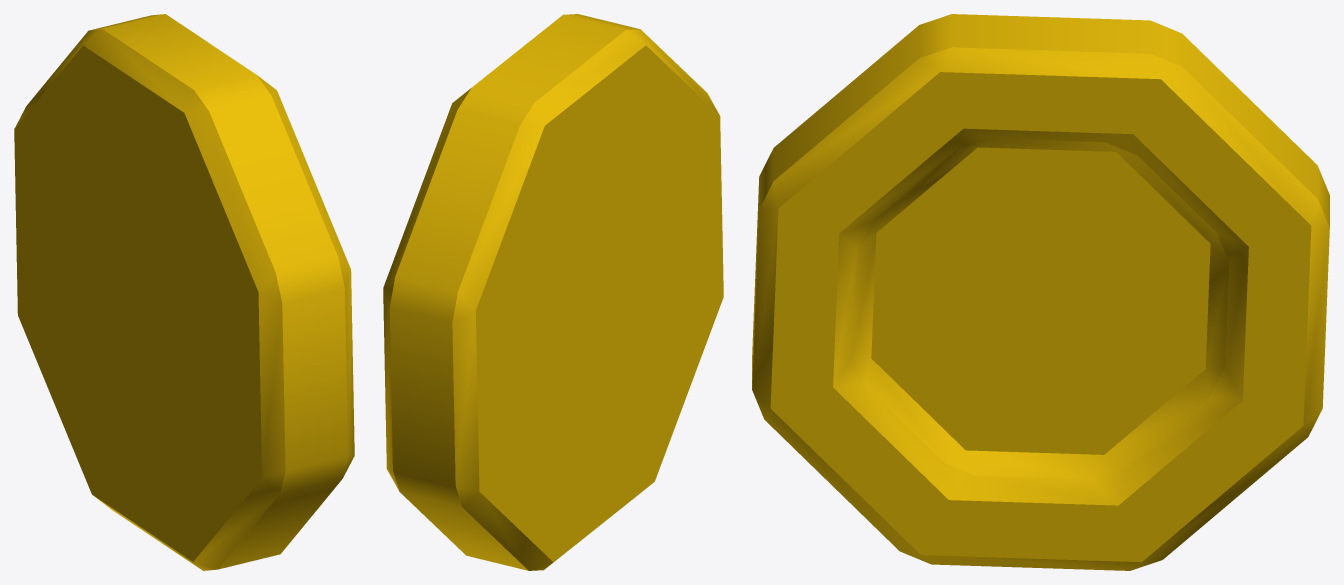
Rendered from GoldPiece.fbx.
3 renders of one model, left to right at view 1: azimuth 30°, elevation 25°; view 2: azimuth 150°, elevation 25°; view 3: azimuth 270°, elevation 25°, orthographic. The views are drawn at different scales.
Parts seen in each view (by area): view 1: Circle; view 2: Circle; view 3: Circle.
Boxes of the visible parts, x1=… form: Circle: x1=14, y1=14, x2=354, y2=570; Circle: x1=383, y1=14, x2=723, y2=570; Circle: x1=752, y1=14, x2=1329, y2=570.
Bounding box in the file's own units: 26.97 × 134 × 134.
